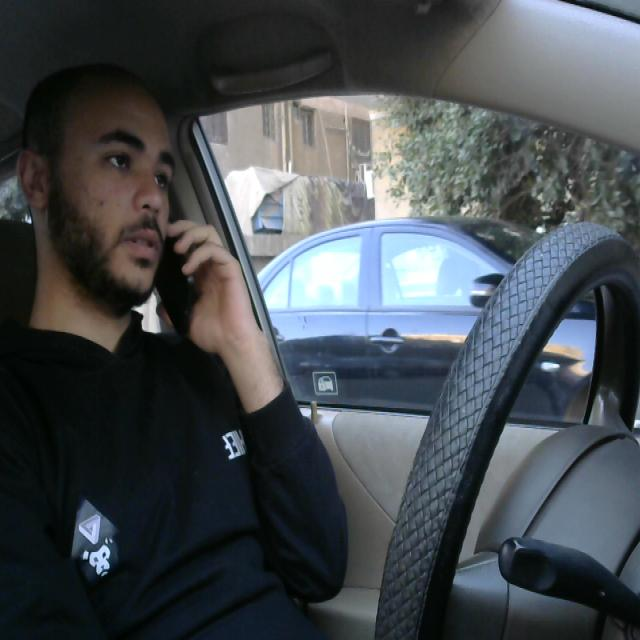mobile use: (142, 214, 203, 354)
